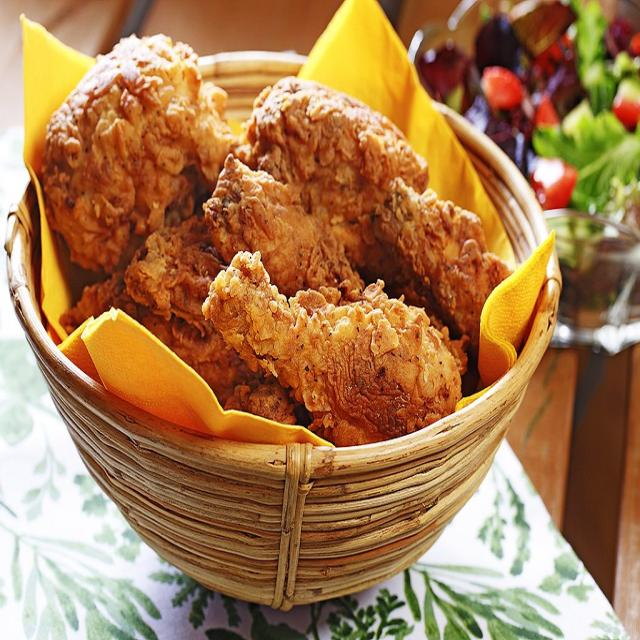Frango: (204, 235, 474, 448), (258, 77, 482, 327)
